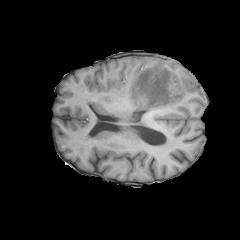glioma: (116, 57, 194, 114)
